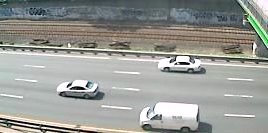car: (137, 99, 203, 133), (55, 77, 104, 103), (156, 52, 204, 77)
